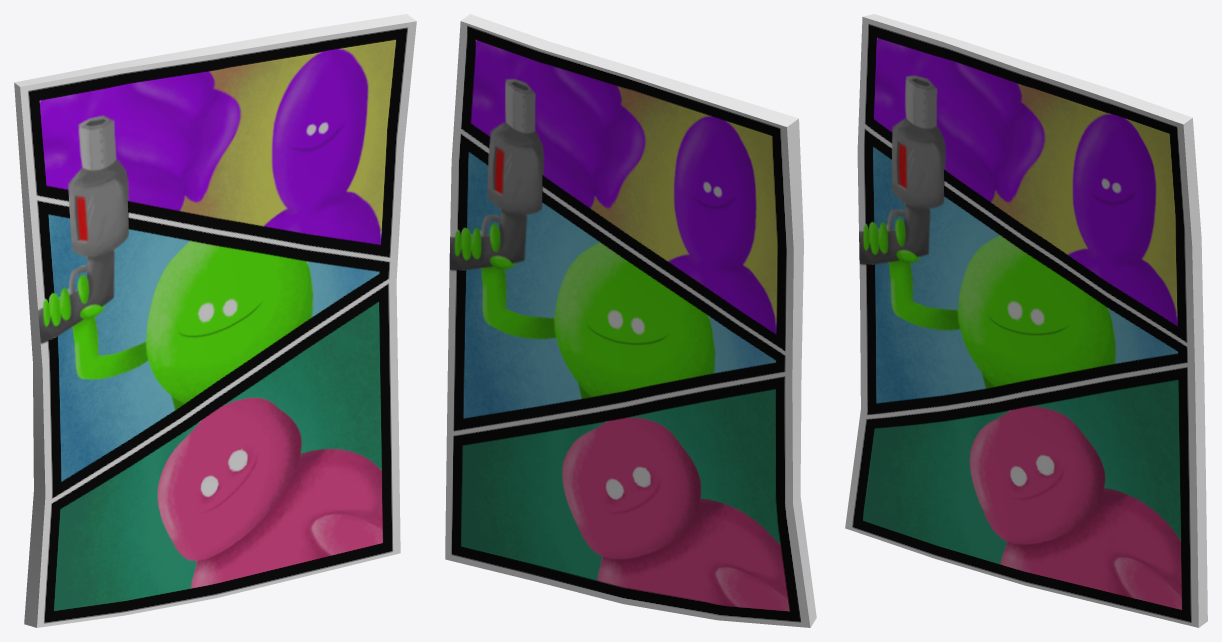
The model's file is page.fbx.
The picture shows the model from 3 angles, left to right: view 1: azimuth 30°, elevation 25°; view 2: azimuth 150°, elevation 25°; view 3: azimuth 330°, elevation 25°; orthographic projection. The views are drawn at different scales.
Parts seen in each view (by area): view 1: polySurface3; view 2: polySurface3; view 3: polySurface3.
Part boxes in pixels (x1,y1,x2,y2): polySurface3: (14,14,416,627); polySurface3: (445,14,816,627); polySurface3: (845,14,1207,627).
Size of the model in its own units: 0.5056 by 0.7116 by 0.0894.
1 material, 1 textured.
